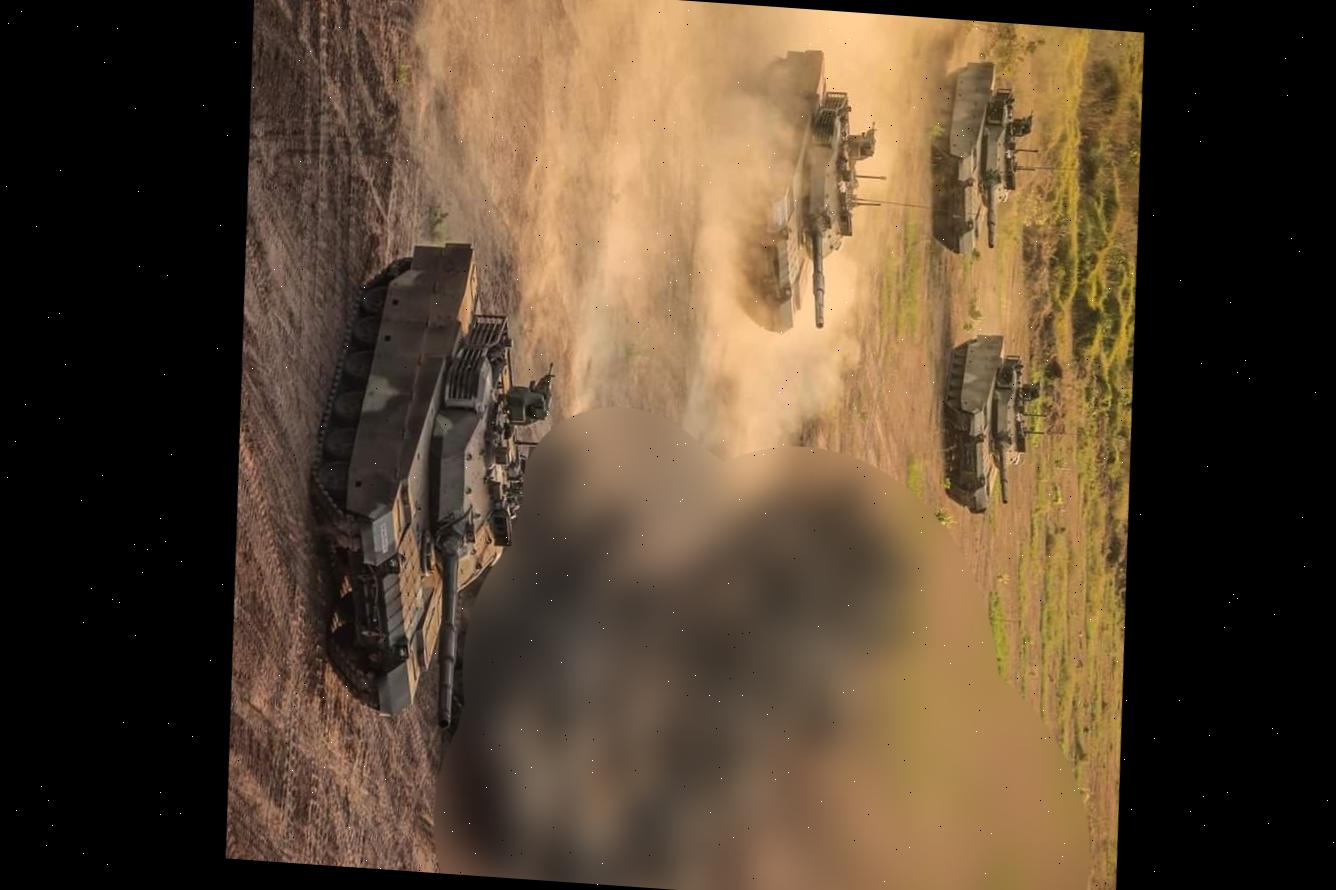tank: (285, 233, 578, 739), (749, 46, 901, 338), (927, 58, 1048, 260), (933, 329, 1052, 518)
